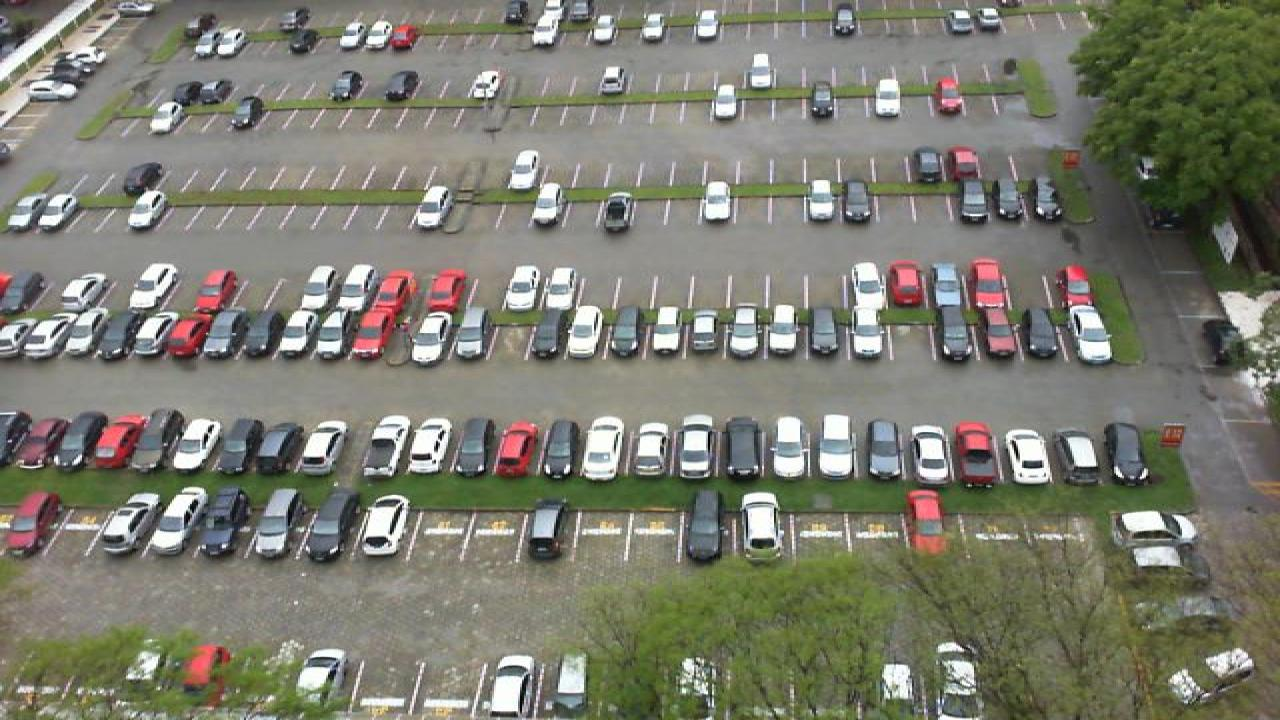Car: (144, 487, 208, 558), (934, 641, 988, 720), (302, 488, 358, 564), (478, 653, 538, 720), (196, 485, 250, 558), (252, 486, 304, 560), (8, 489, 64, 557), (292, 647, 348, 713), (358, 494, 412, 561), (96, 498, 156, 557), (132, 407, 184, 474), (180, 642, 232, 708), (356, 415, 412, 476), (954, 419, 1002, 490), (740, 490, 786, 564), (904, 487, 950, 559), (580, 414, 626, 484), (90, 413, 146, 470), (404, 416, 456, 477), (1102, 421, 1150, 487), (814, 412, 860, 480), (1002, 426, 1052, 488), (56, 410, 108, 469), (684, 488, 724, 564), (214, 416, 266, 474), (296, 418, 348, 476), (1112, 508, 1200, 542), (448, 415, 496, 477), (908, 425, 956, 487), (252, 417, 302, 476), (722, 415, 766, 482), (768, 415, 812, 482), (1056, 424, 1102, 488), (18, 416, 72, 470), (538, 414, 584, 477), (168, 417, 220, 472), (676, 414, 720, 478), (524, 498, 568, 562), (1070, 304, 1114, 366), (490, 422, 538, 478), (864, 418, 906, 482), (554, 652, 592, 720), (630, 419, 672, 480), (408, 310, 452, 366), (978, 304, 1022, 360), (526, 305, 568, 361), (350, 307, 392, 362), (804, 303, 844, 359), (848, 306, 888, 362), (936, 305, 976, 361), (26, 312, 72, 360), (422, 268, 468, 316), (130, 261, 176, 309), (204, 309, 248, 359), (566, 304, 606, 359), (242, 308, 284, 360), (58, 271, 110, 313), (368, 268, 414, 315), (610, 305, 648, 360), (66, 308, 106, 360), (100, 308, 140, 360), (166, 313, 210, 360), (194, 268, 238, 315), (648, 306, 686, 360), (1024, 307, 1062, 361), (280, 307, 318, 360), (134, 310, 174, 360), (688, 305, 724, 360), (314, 308, 352, 360), (766, 304, 802, 358), (300, 264, 342, 310), (886, 259, 926, 307), (728, 305, 764, 358), (450, 310, 486, 362), (0, 410, 32, 468), (122, 190, 166, 232), (502, 148, 544, 192), (502, 264, 542, 310), (338, 264, 378, 310), (526, 182, 564, 228), (544, 266, 582, 312), (970, 259, 1006, 307), (414, 188, 452, 233), (932, 260, 968, 307), (954, 176, 990, 222), (1062, 264, 1098, 310), (846, 261, 882, 307), (6, 192, 46, 232), (598, 191, 634, 235), (1030, 176, 1064, 222), (146, 100, 188, 137), (40, 192, 78, 232), (838, 178, 872, 222), (992, 176, 1024, 222), (700, 180, 734, 223), (908, 145, 946, 183), (806, 179, 838, 223), (0, 317, 32, 359), (230, 96, 266, 132), (330, 68, 366, 104), (934, 76, 966, 116), (948, 145, 982, 182), (382, 68, 418, 102), (466, 68, 502, 102), (710, 83, 740, 123), (874, 78, 904, 118), (596, 64, 628, 98), (362, 20, 396, 52), (808, 81, 836, 119), (210, 28, 244, 59), (336, 20, 368, 52), (530, 16, 560, 48), (748, 53, 774, 89), (186, 29, 216, 60), (388, 23, 420, 52), (286, 27, 318, 56), (640, 11, 668, 43), (694, 9, 722, 41), (832, 4, 860, 36), (944, 8, 976, 36), (590, 15, 618, 45), (974, 6, 1004, 34)
